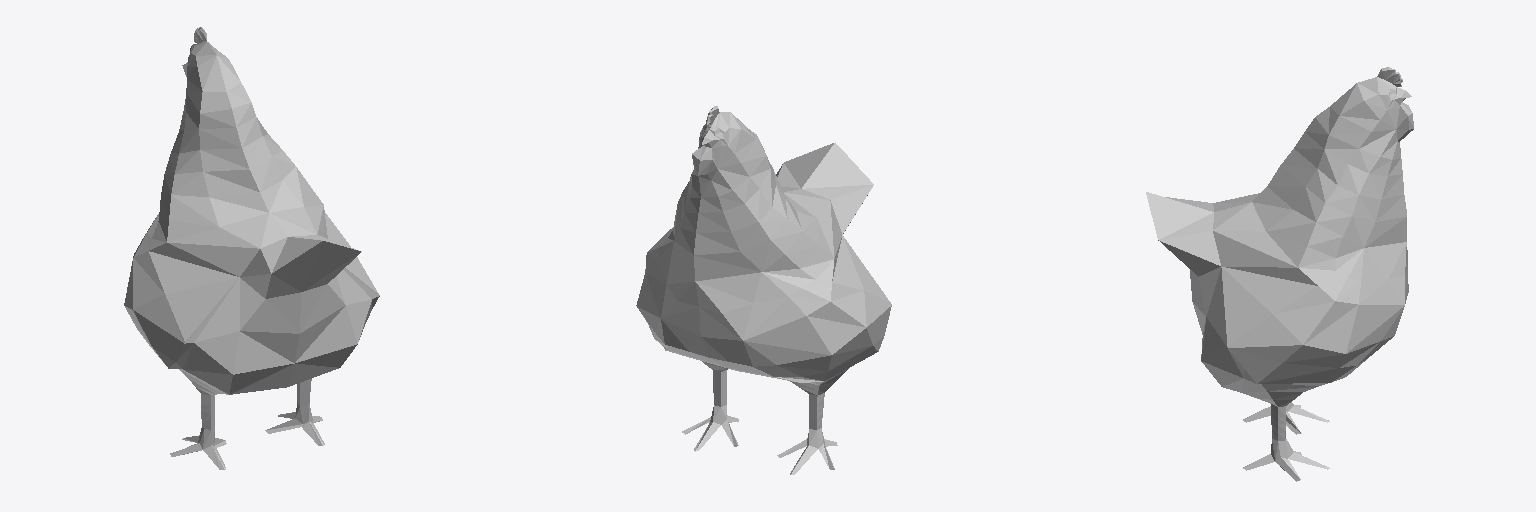
File: frame1.obj
3 views of the same model, side by side, from view 1: azimuth 30°, elevation 25°; view 2: azimuth 150°, elevation 25°; view 3: azimuth 270°, elevation 25° (orthographic).
Parts seen in each view (by area): view 1: frame1:Chicken; view 2: frame1:Chicken; view 3: frame1:Chicken.
Part boxes in pixels (x1,y1,x2,y2): frame1:Chicken: (124, 27, 379, 469); frame1:Chicken: (636, 106, 891, 474); frame1:Chicken: (1146, 67, 1413, 481).
Size of the model in its own units: 2.14 by 3.49 by 2.25.